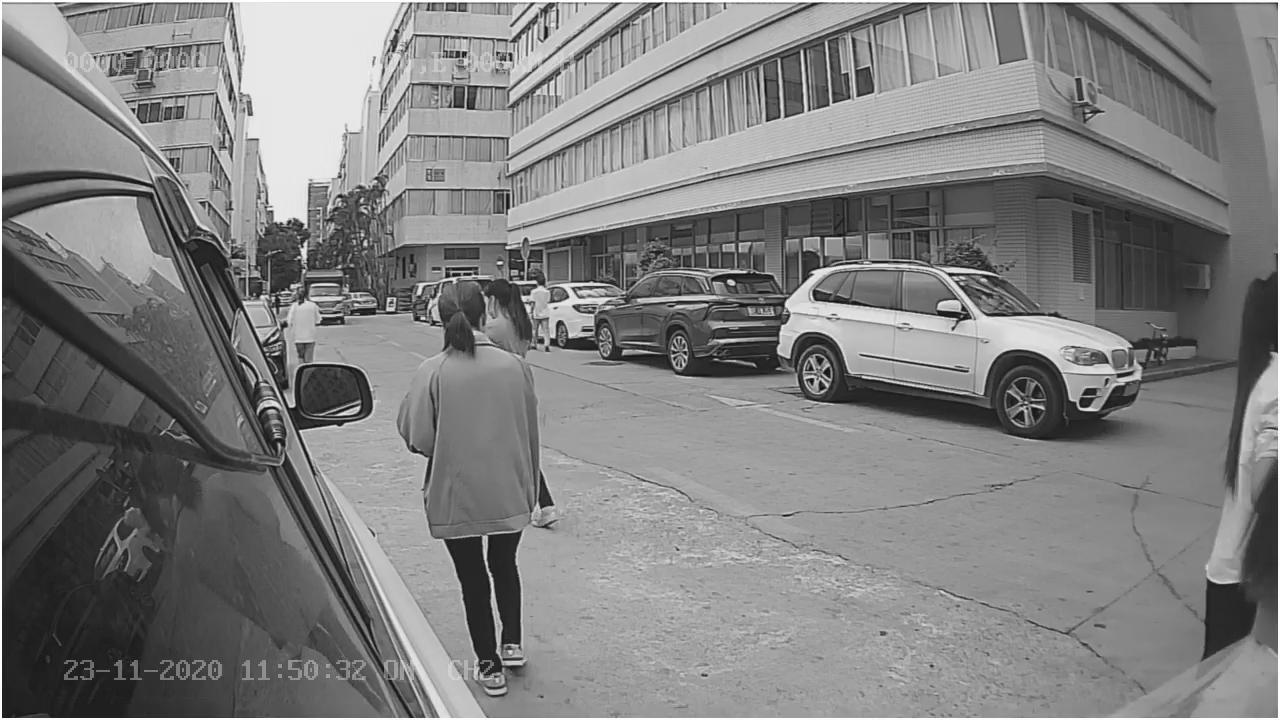person: (393, 270, 543, 484)
